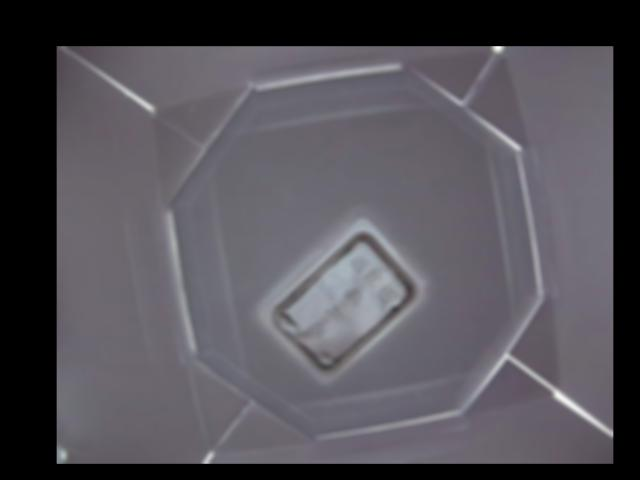Medicine: (266, 217, 425, 383)
